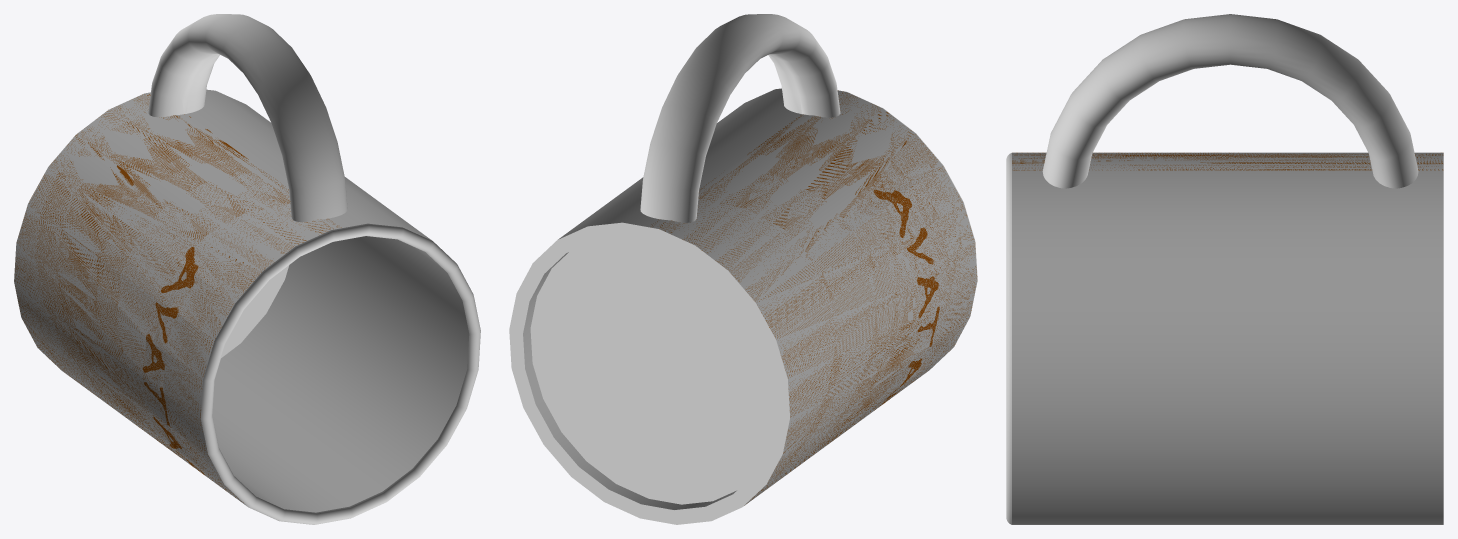
The model's file is model_align.obj.
3 renders of one model, left to right at view 1: azimuth 30°, elevation 25°; view 2: azimuth 150°, elevation 25°; view 3: azimuth 270°, elevation 25°, orthographic. The views are drawn at different scales.
Parts seen in each view (by area): view 1: mesh1_mesh1-geometry, mesh10_mesh10-geometry, mesh7_mesh7-geometry; view 2: mesh1_mesh1-geometry, mesh10_mesh10-geometry, mesh7_mesh7-geometry; view 3: mesh1_mesh1-geometry, mesh7_mesh7-geometry, mesh10_mesh10-geometry.
Boxes of the visible parts, x1,y1,x2,y2 form: mesh1_mesh1-geometry: (187, 89, 480, 524); mesh10_mesh10-geometry: (14, 92, 341, 506); mesh7_mesh7-geometry: (148, 14, 347, 222); mesh1_mesh1-geometry: (509, 88, 977, 524); mesh10_mesh10-geometry: (648, 90, 977, 505); mesh7_mesh7-geometry: (640, 14, 840, 222); mesh1_mesh1-geometry: (1006, 153, 1443, 524); mesh7_mesh7-geometry: (1042, 14, 1418, 188); mesh10_mesh10-geometry: (1012, 152, 1443, 171).
Bounding box in the file's own units: 0.0868 × 0.126 × 0.1017.
